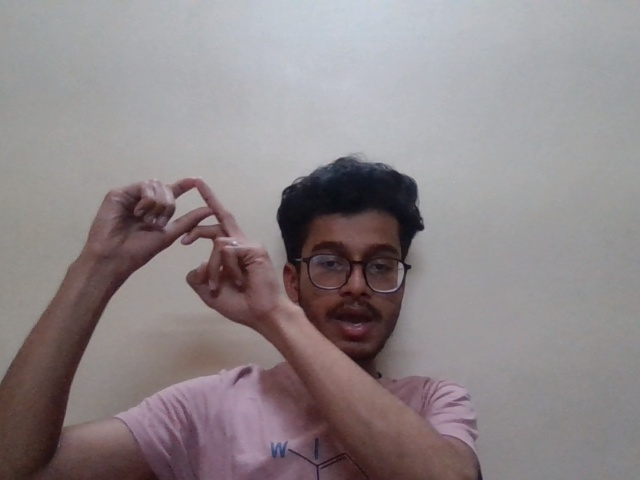R: (69, 166, 291, 332)
